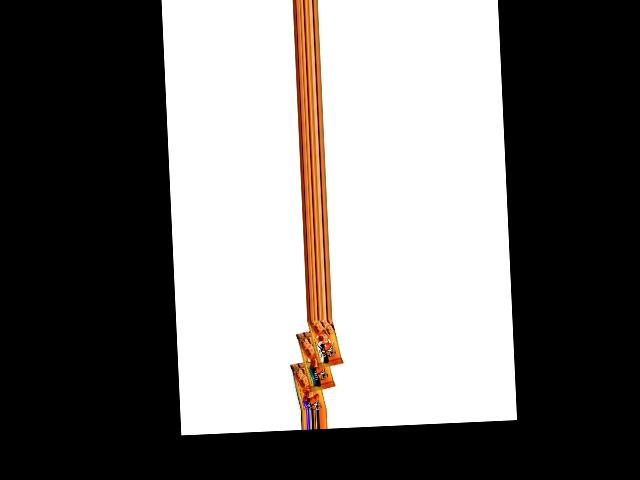chocolate: (292, 356, 327, 411)
